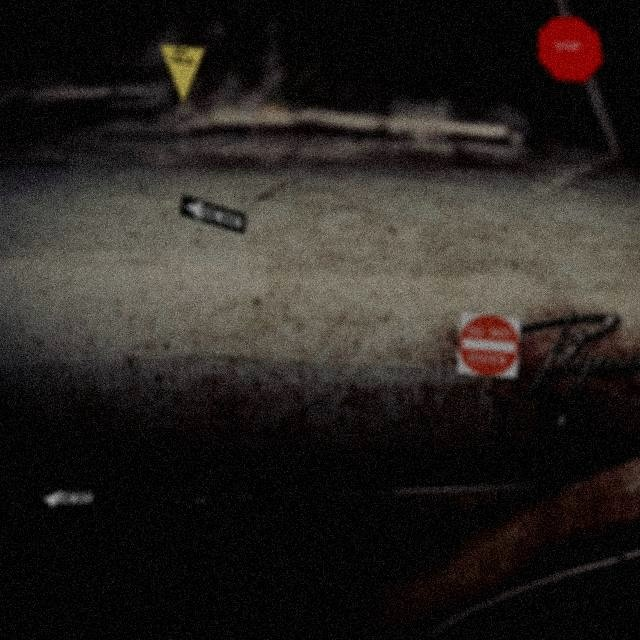DO_NOT_ENTER: (456, 312, 522, 379)
NOT_YIELD: (159, 44, 206, 105)
ONE_WAY_ left: (179, 194, 246, 234), (31, 489, 98, 509)
STOP: (537, 16, 604, 83)
